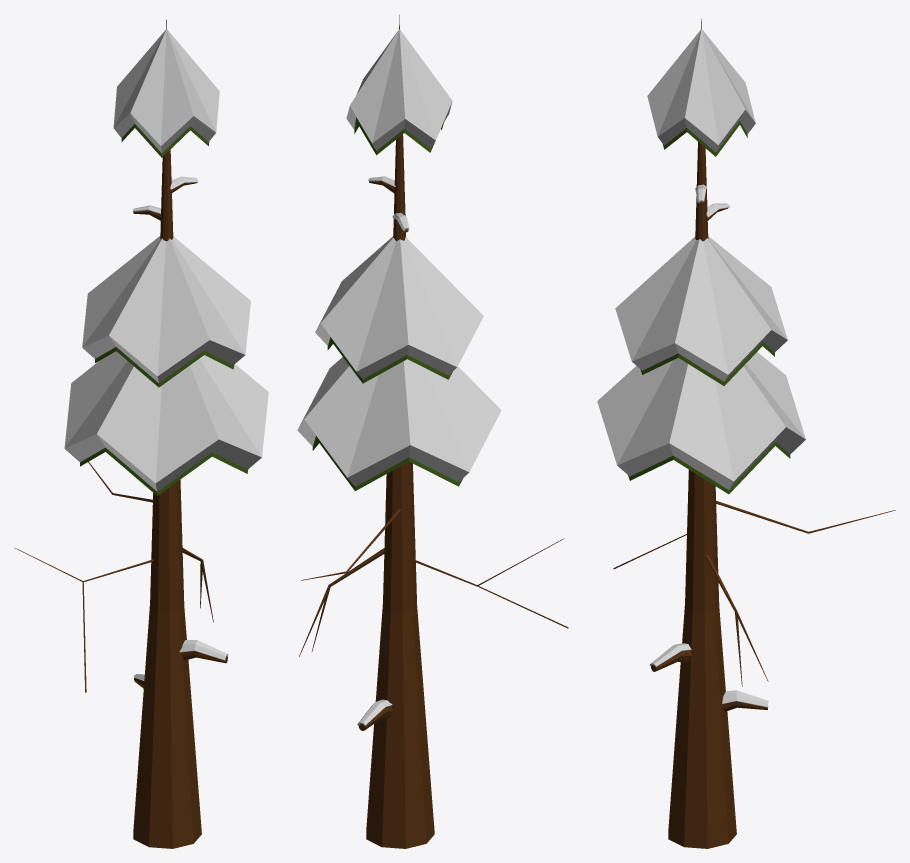
File: Tree_11.fbx
3 renders of one model, left to right at view 1: azimuth 30°, elevation 25°; view 2: azimuth 150°, elevation 25°; view 3: azimuth 270°, elevation 25°, orthographic.
Parts seen in each view (by area): view 1: Tree_11; view 2: Tree_11; view 3: Tree_11.
Part boxes in pixels (box(x1,y1,x2,y2)): Tree_11: box(14, 19, 268, 848); Tree_11: box(297, 15, 568, 848); Tree_11: box(597, 18, 895, 848).
Bounding box in the file's own units: 156 × 500 × 165.
